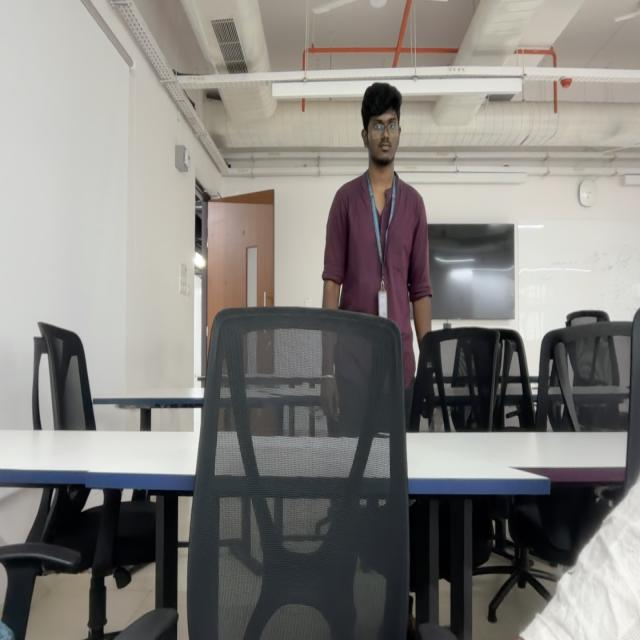ravindra: (361, 80, 402, 168)
